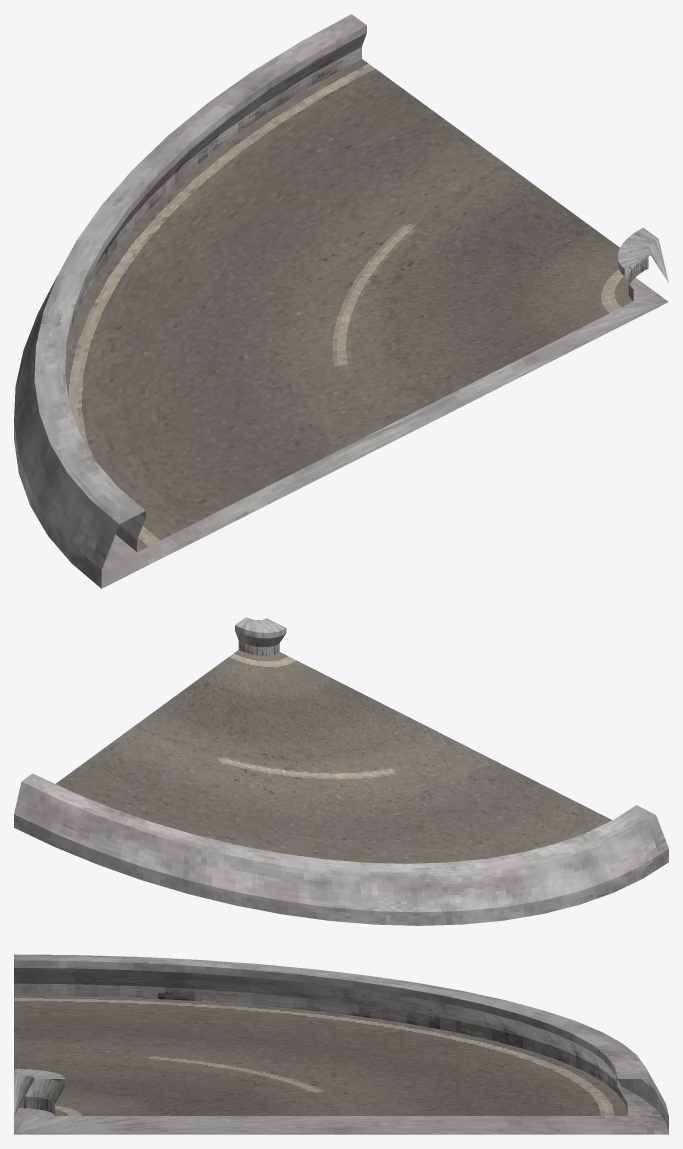
Rendered from turn-right1x1.glb.
3 views of the same model, one above another, from view 1: azimuth 30°, elevation 25°; view 2: azimuth 150°, elevation 25°; view 3: azimuth 270°, elevation 25° (orthographic). The views are drawn at different scales.
Visible parts, largest first — view 1: road-Turn-HalfBankedLeft-BiSlopeUp-Up1-Right-Size1; view 2: road-Turn-HalfBankedLeft-BiSlopeUp-Up1-Right-Size1; view 3: road-Turn-HalfBankedLeft-BiSlopeUp-Up1-Right-Size1.
Part boxes in pixels (box(x1,y1,x2,y2)): road-Turn-HalfBankedLeft-BiSlopeUp-Up1-Right-Size1: box(14, 14, 668, 588); road-Turn-HalfBankedLeft-BiSlopeUp-Up1-Right-Size1: box(14, 617, 668, 925); road-Turn-HalfBankedLeft-BiSlopeUp-Up1-Right-Size1: box(14, 954, 668, 1134).
Size of the model in its own units: 1 by 0.3437 by 1.
Materials: 2 (2 with a texture image).
